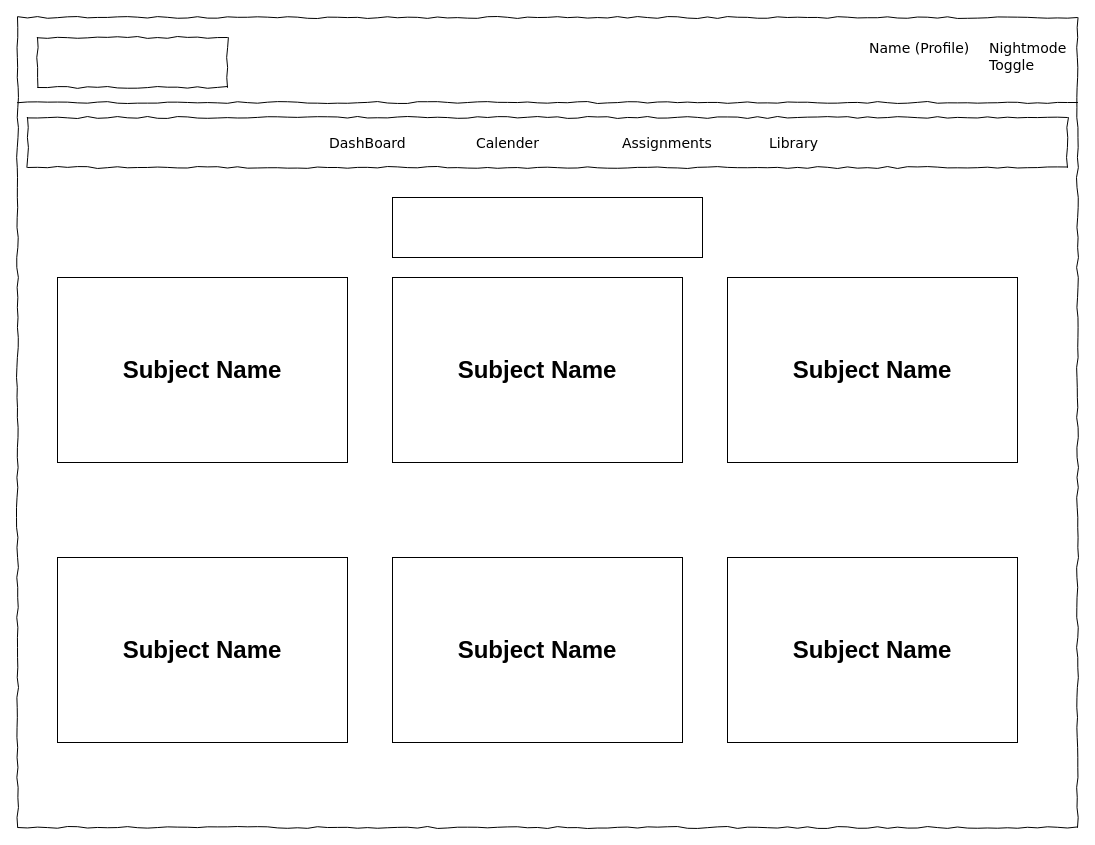
The diagram is 1095 pixels wide and 845 high, and some of its shapes have lost their labels. Each missing label, with the centre of its shape:
"LOGO" goes at [132,62].
"Search Bar" goes at [547,227].
